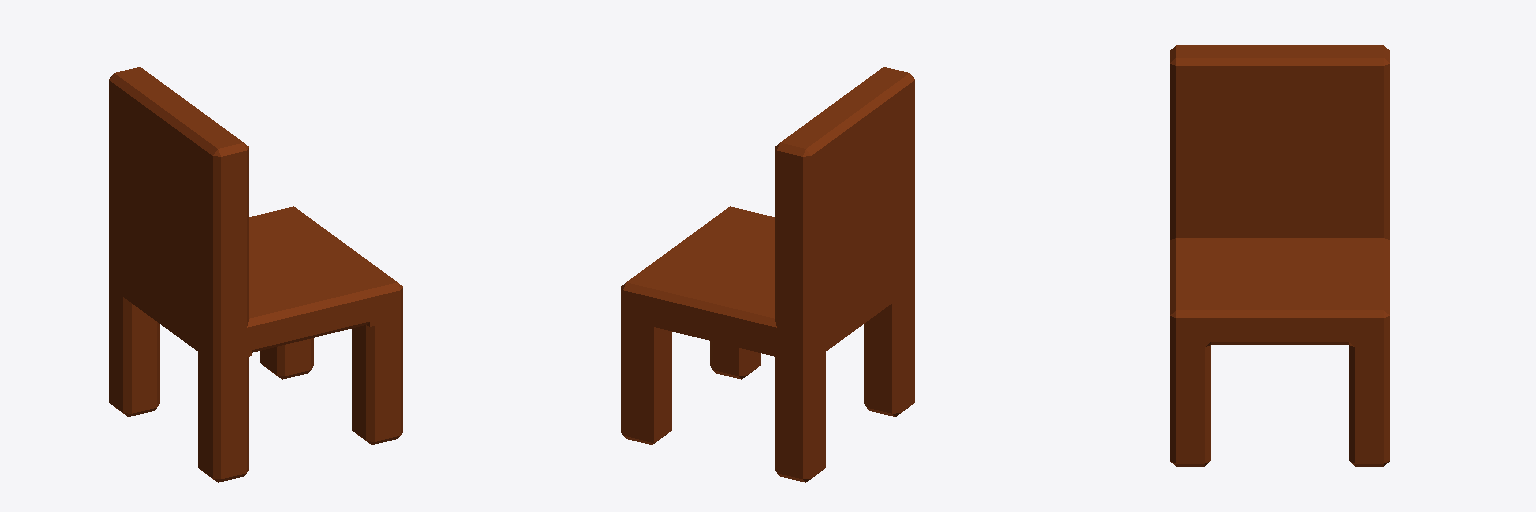
3 renders of one model, left to right at view 1: azimuth 30°, elevation 25°; view 2: azimuth 150°, elevation 25°; view 3: azimuth 270°, elevation 25°, orthographic.
Visible parts, largest first — view 1: Cube; view 2: Cube; view 3: Cube.
Part boxes in pixels (x1,y1,x2,y2): Cube: (109, 67, 402, 482); Cube: (621, 67, 914, 482); Cube: (1170, 45, 1389, 466).
Size of the model in its own units: 0.8578 by 1.44 by 0.8578.
1 materials, 1 textured.